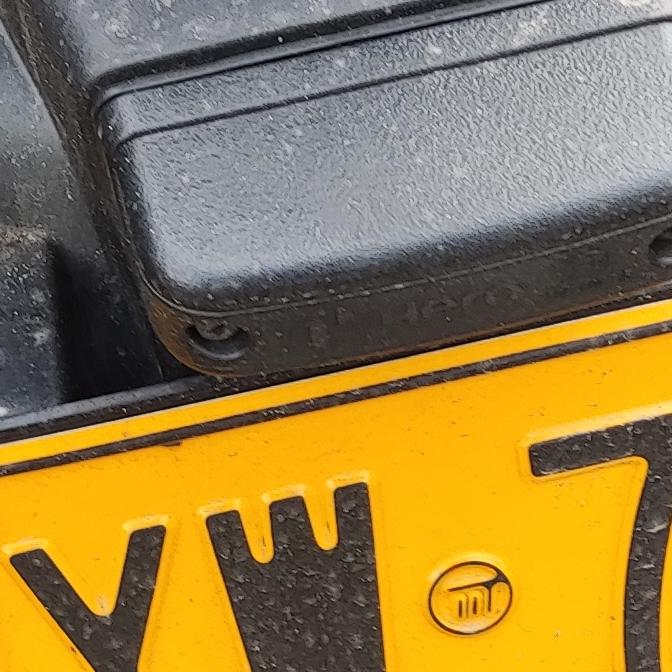plates: (0, 307, 672, 672)
